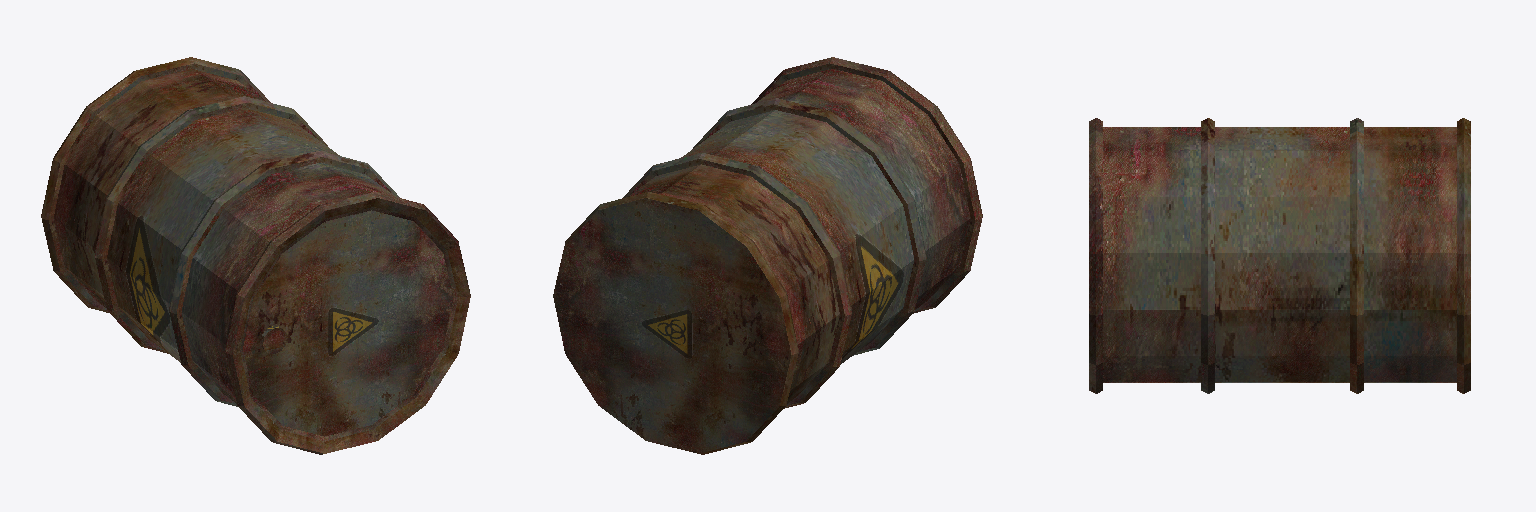
3 views of the same model, side by side, from view 1: azimuth 30°, elevation 25°; view 2: azimuth 150°, elevation 25°; view 3: azimuth 270°, elevation 25° (orthographic).
Visible parts, largest first — view 1: Cylinder01; view 2: Cylinder01; view 3: Cylinder01.
Boxes of the visible parts, box(x1,y1,x2,y2) form: Cylinder01: box(41, 57, 470, 454); Cylinder01: box(553, 57, 982, 454); Cylinder01: box(1089, 118, 1470, 393).
Bounding box in the file's own units: 0.6768 × 0.6598 × 0.9146.
Materials: 1 (1 with a texture image).